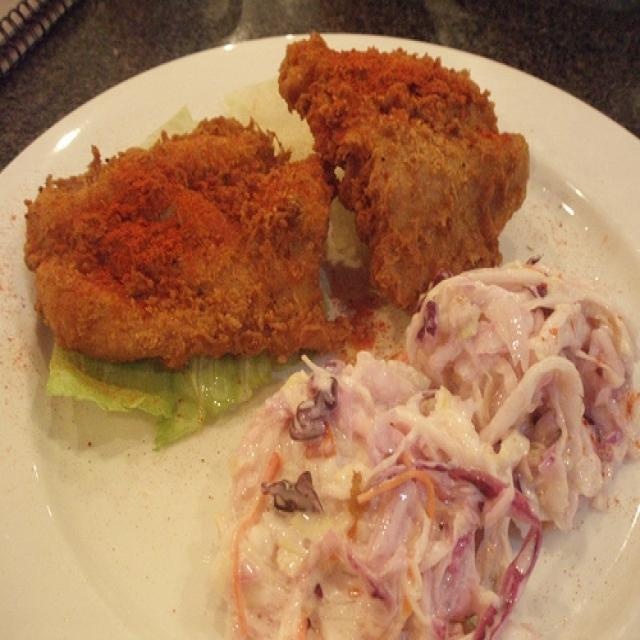鸡肉料理 含炸鸡: (12, 17, 638, 632)
